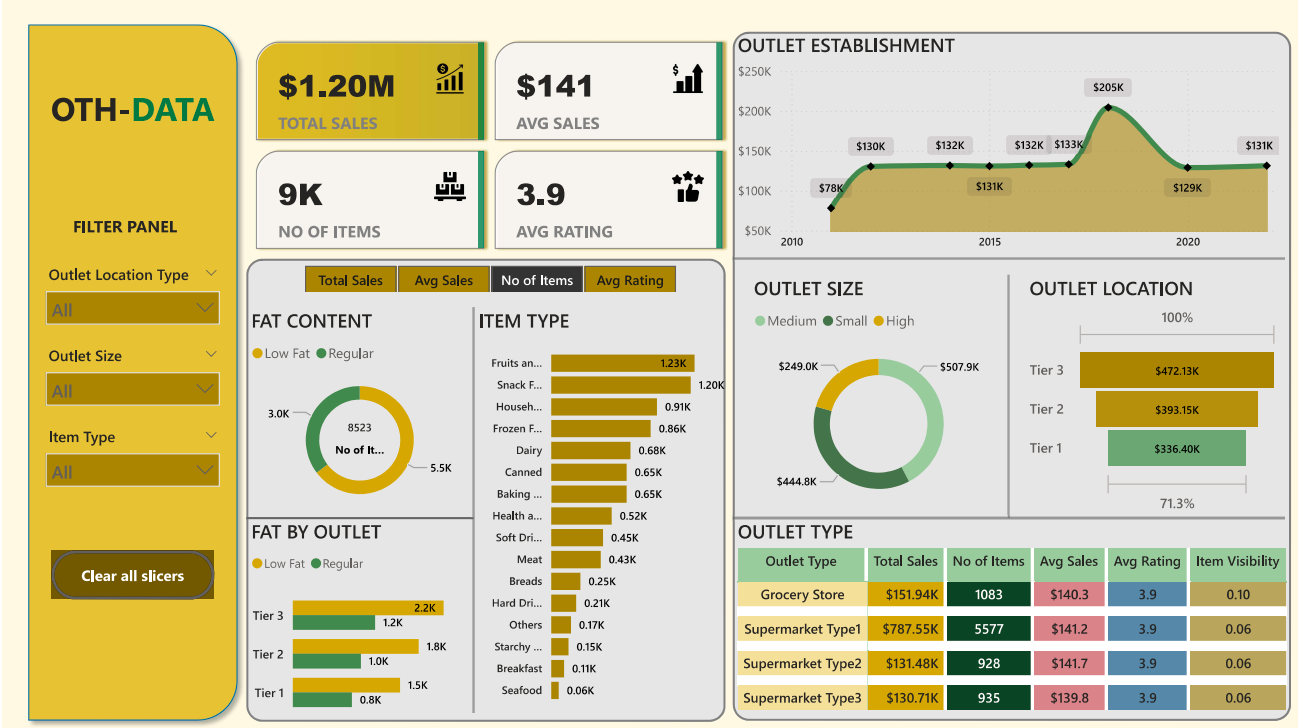

The dashboard page shown, as its layout file describes it:
{"tool":"powerbi","page":{"name":"Page 1","canvas":[1280,720],"ordinal":0},"visuals":[{"type":"shape","box":[16,16,224,704],"z":0},{"type":"textbox","box":[32,80,192,80],"z":1000},{"type":"cardVisual","fields":{"Data":["BlinkIT Grocery Data (2).Total Sales","BlinkIT Grocery Data (2).Avg Sales","BlinkIT Grocery Data (2).No of Items","BlinkIT Grocery Data (2).Avg Rating"]},"box":[240,32,480,224],"z":2000},{"type":"shape","box":[240,256,473,457],"z":3000},{"type":"slicer","fields":{"Values":["METRICS.METRICS"]},"box":[272,256,416,32],"z":4000},{"type":"donutChart","title":"FAT CONTENT","fields":{"Y":["BlinkIT Grocery Data (2).No of Items"],"Category":["BlinkIT Grocery Data (2).Item Fat Content"]},"box":[240,304,224,208],"z":5000},{"type":"card","fields":{"Values":["BlinkIT Grocery Data (2).No of Items"]},"box":[320,400,64,64],"z":6000},{"type":"clusteredBarChart","title":"FAT BY OUTLET","fields":{"Y":["BlinkIT Grocery Data (2).No of Items"],"Category":["BlinkIT Grocery Data (2).Outlet Location Type"],"Series":["BlinkIT Grocery Data (2).Item Fat Content"]},"box":[240,512,224,208],"z":7000},{"type":"shape","box":[240,480,224,64],"z":8000},{"type":"shape","box":[432,304,64,400],"z":9000},{"type":"barChart","title":"ITEM TYPE","fields":{"Y":["BlinkIT Grocery Data (2).No of Items"],"Category":["BlinkIT Grocery Data (2).Item Type"]},"box":[464,304,256,400],"z":10000},{"type":"shape","box":[720,32,551,680],"z":11000},{"type":"lineChart","title":"OUTLET ESTABLISHMENT","fields":{"Category":["BlinkIT Grocery Data (2).Outlet Establishment Year"],"Y":["BlinkIT Grocery Data (2).Total Sales"]},"box":[720,32,544,224],"z":12000},{"type":"shape","box":[720,224,544,64],"z":13000},{"type":"donutChart","title":"OUTLET SIZE","fields":{"Y":["BlinkIT Grocery Data (2).Total Sales"],"Category":["BlinkIT Grocery Data (2).Outlet Size"]},"box":[736,272,256,240],"z":14000},{"type":"funnel","title":"OUTLET LOCATION","fields":{"Category":["BlinkIT Grocery Data (2).Outlet Location Type"],"Y":["BlinkIT Grocery Data (2).Total Sales"]},"box":[1008,272,256,240],"z":15000},{"type":"shape","box":[928,272,128,240],"z":16000},{"type":"pivotTable","title":"OUTLET TYPE","fields":{"Rows":["BlinkIT Grocery Data (2).Outlet Type"],"Values":["BlinkIT Grocery Data (2).Total Sales","BlinkIT Grocery Data (2).No of Items","BlinkIT Grocery Data (2).Avg Sales","BlinkIT Grocery Data (2).Avg Rating","Avg(BlinkIT Grocery Data (2).Item Visibility)"]},"box":[720,512,560,208],"z":17000},{"type":"shape","box":[720,480,544,64],"z":18000},{"type":"slicer","fields":{"Values":["BlinkIT Grocery Data (2).Outlet Location Type"]},"box":[32,256,192,80],"z":19000},{"type":"slicer","fields":{"Values":["BlinkIT Grocery Data (2).Outlet Size"]},"box":[32,336,192,80],"z":20000},{"type":"slicer","fields":{"Values":["BlinkIT Grocery Data (2).Item Type"]},"box":[32,416,192,96],"z":21000},{"type":"actionButton","box":[48,544,160,48],"z":21002},{"type":"textbox","box":[64,208,128,32],"z":21003}]}

Visuals, with their boxes in screenshot pixels (x1, y1, x2, y2), scaled from the page's 1280x720 canvas onto the 1298x728 screenshot:
shape: <bbox>16, 16, 243, 727</bbox>
textbox: <bbox>32, 81, 227, 162</bbox>
cardVisual - BlinkIT Grocery Data (2).Total Sales x BlinkIT Grocery Data (2).Avg Sales: <bbox>243, 32, 730, 259</bbox>
shape: <bbox>243, 259, 723, 721</bbox>
slicer - METRICS.METRICS: <bbox>276, 259, 698, 291</bbox>
"FAT CONTENT" donutChart: <bbox>243, 307, 471, 518</bbox>
card - BlinkIT Grocery Data (2).No of Items: <bbox>324, 404, 389, 469</bbox>
"FAT BY OUTLET" clusteredBarChart: <bbox>243, 518, 471, 727</bbox>
shape: <bbox>243, 485, 471, 550</bbox>
shape: <bbox>438, 307, 503, 712</bbox>
"ITEM TYPE" barChart: <bbox>471, 307, 730, 712</bbox>
shape: <bbox>730, 32, 1289, 720</bbox>
"OUTLET ESTABLISHMENT" lineChart: <bbox>730, 32, 1282, 259</bbox>
shape: <bbox>730, 226, 1282, 291</bbox>
"OUTLET SIZE" donutChart: <bbox>746, 275, 1006, 518</bbox>
"OUTLET LOCATION" funnel: <bbox>1022, 275, 1282, 518</bbox>
shape: <bbox>941, 275, 1071, 518</bbox>
"OUTLET TYPE" pivotTable: <bbox>730, 518, 1297, 727</bbox>
shape: <bbox>730, 485, 1282, 550</bbox>
slicer - BlinkIT Grocery Data (2).Outlet Location Type: <bbox>32, 259, 227, 340</bbox>
slicer - BlinkIT Grocery Data (2).Outlet Size: <bbox>32, 340, 227, 421</bbox>
slicer - BlinkIT Grocery Data (2).Item Type: <bbox>32, 421, 227, 518</bbox>
actionButton: <bbox>49, 550, 211, 599</bbox>
textbox: <bbox>65, 210, 195, 243</bbox>
